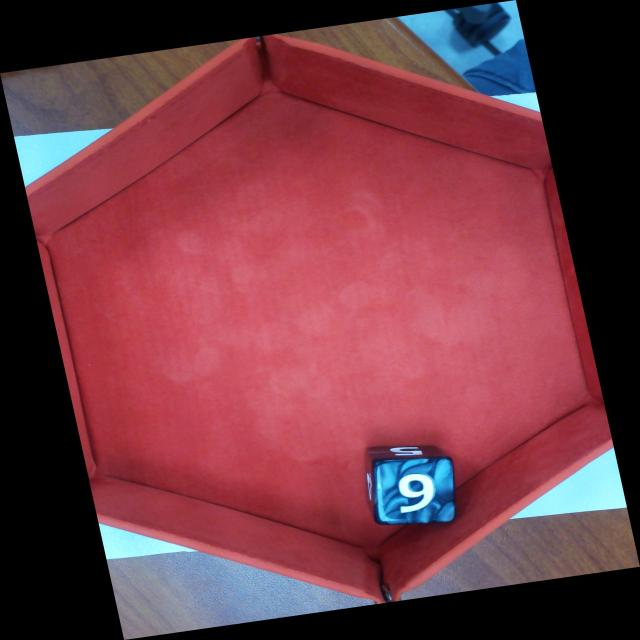dice: (374, 457, 454, 524)
